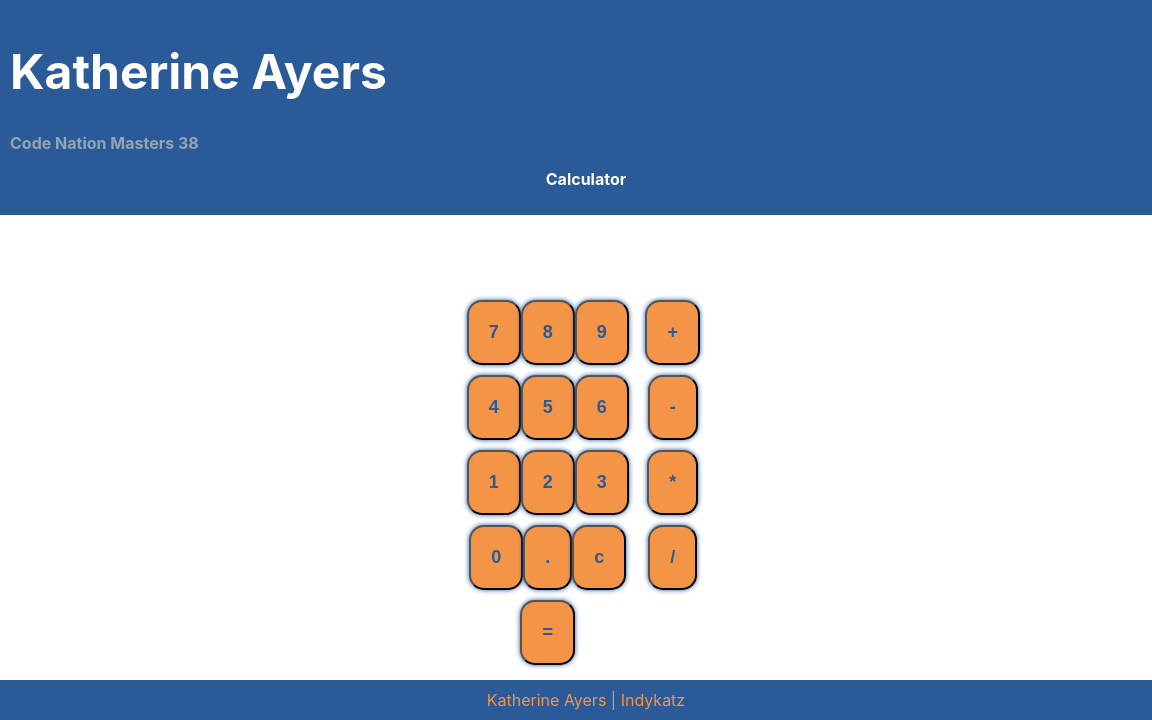
should display 3 wen the user enters 6 / 2
Click the button "6".
click(602, 408)  # box [575, 375, 629, 440]
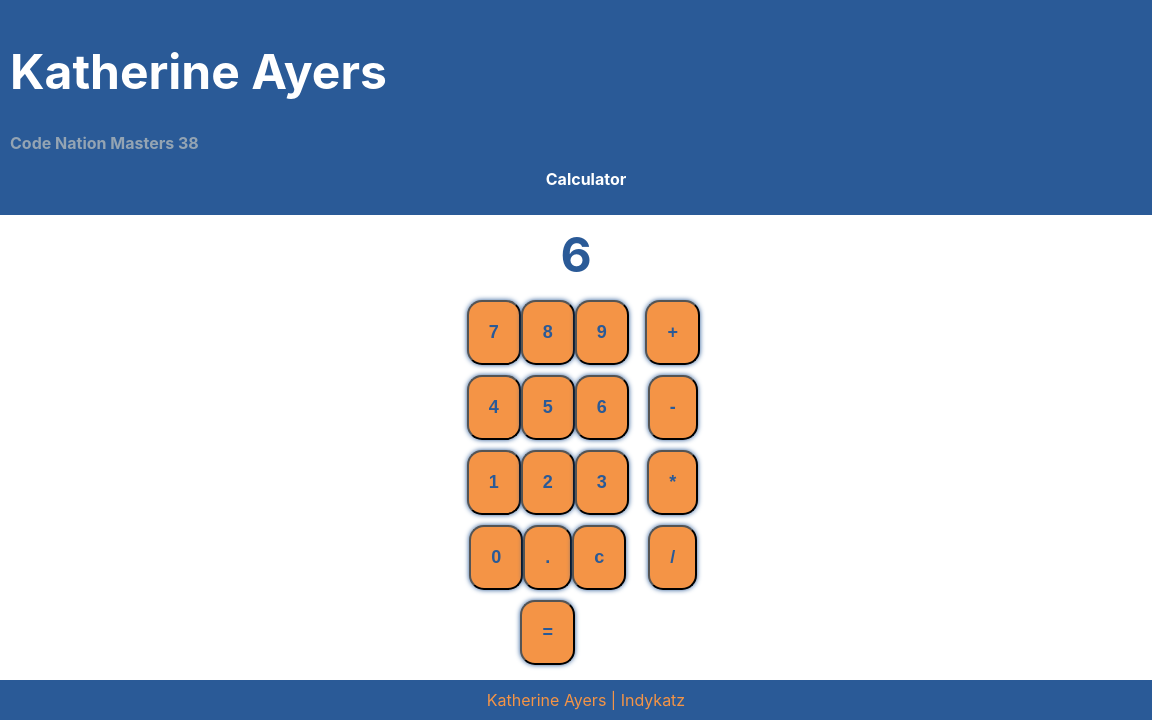
Click the button "/".
click(673, 558)  # box [648, 525, 697, 590]
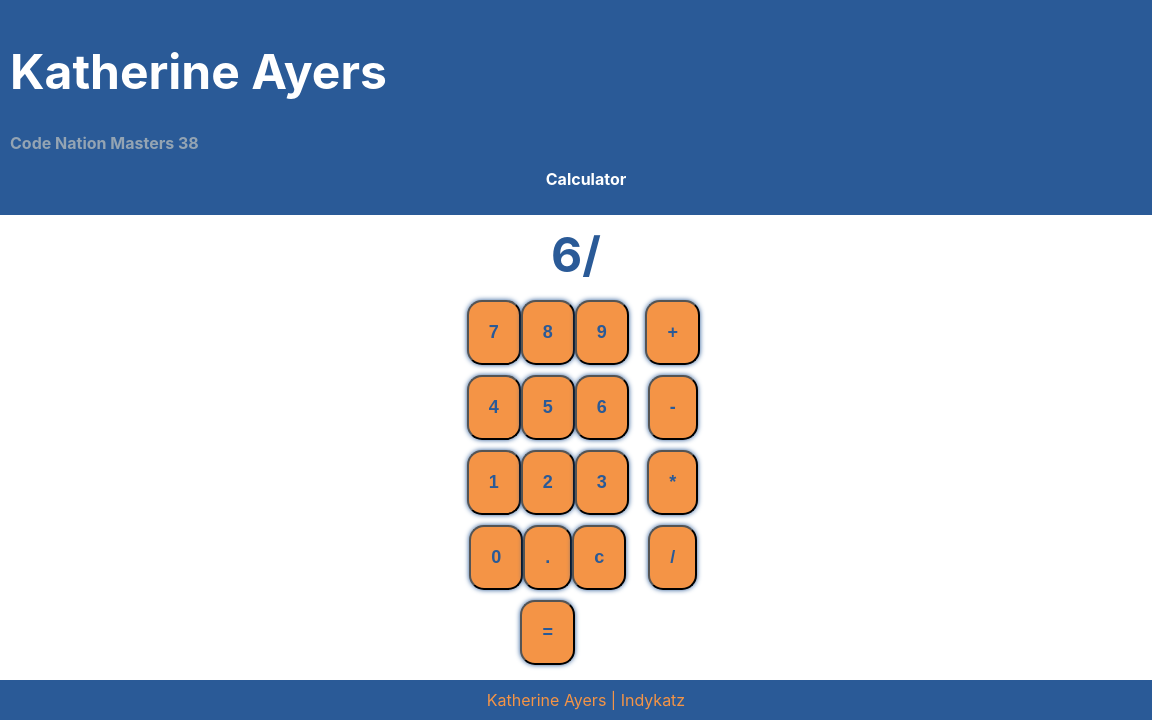
Click the button "2".
click(548, 483)  # box [521, 450, 575, 515]
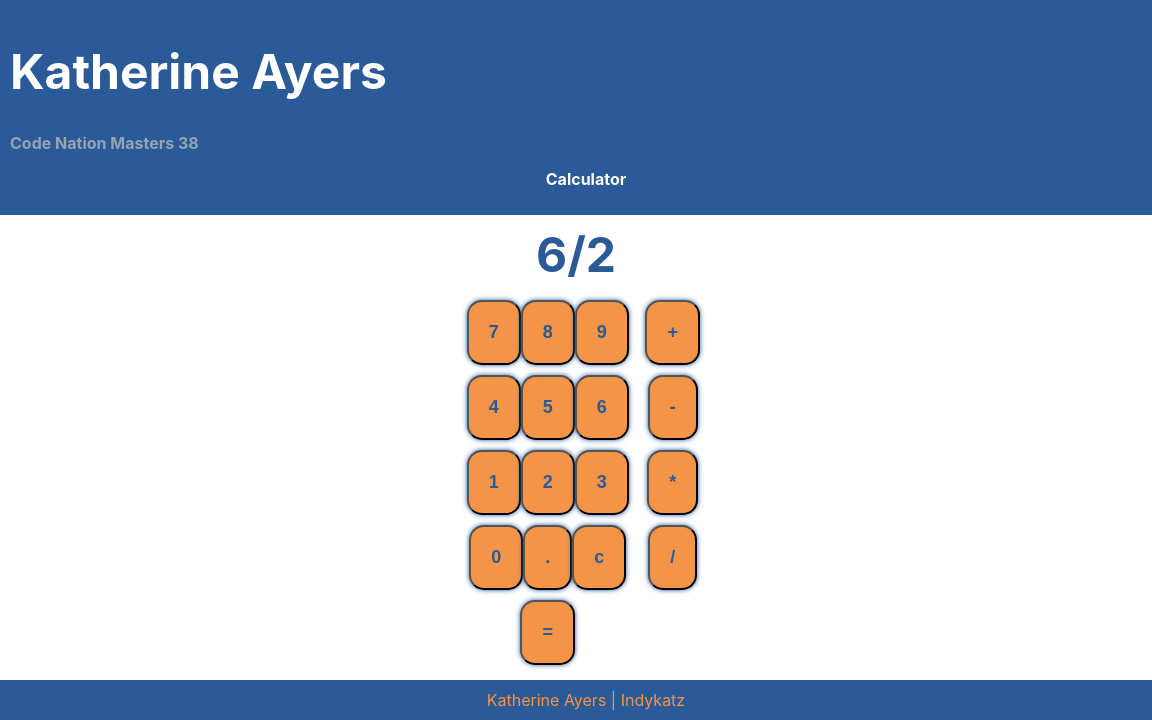
Click the button "=".
click(548, 633)  # box [520, 600, 575, 665]
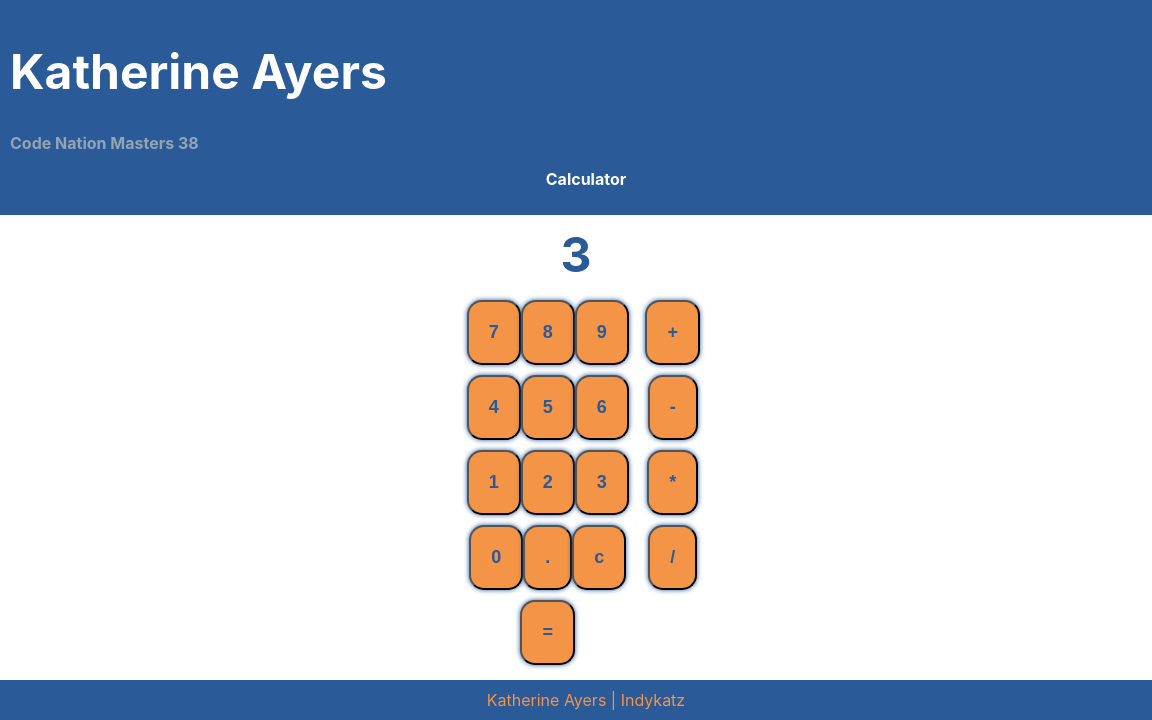
Expected: the heading with test id "display" reads "3", [560, 225, 592, 284]
